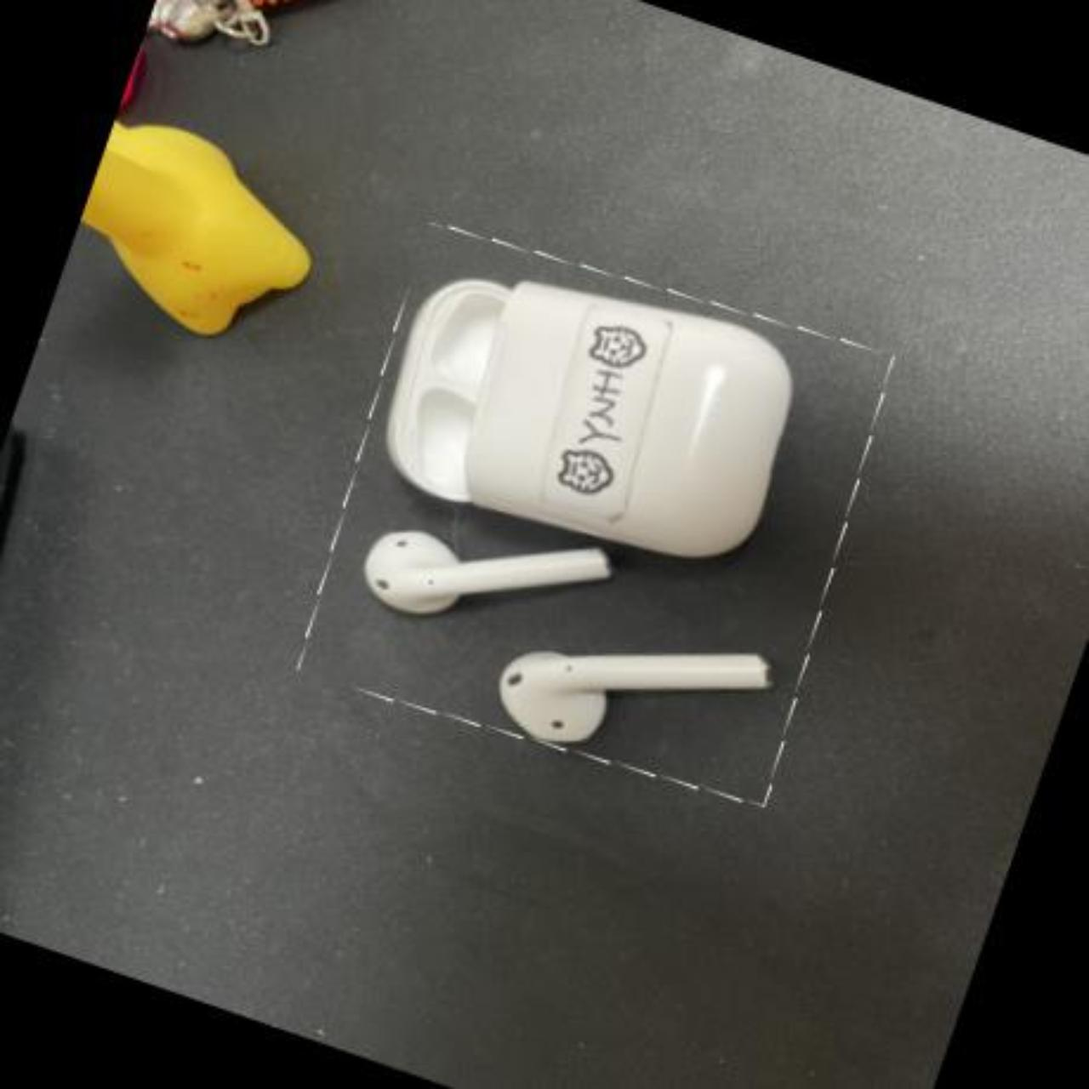AirPods: (284, 207, 909, 822)
